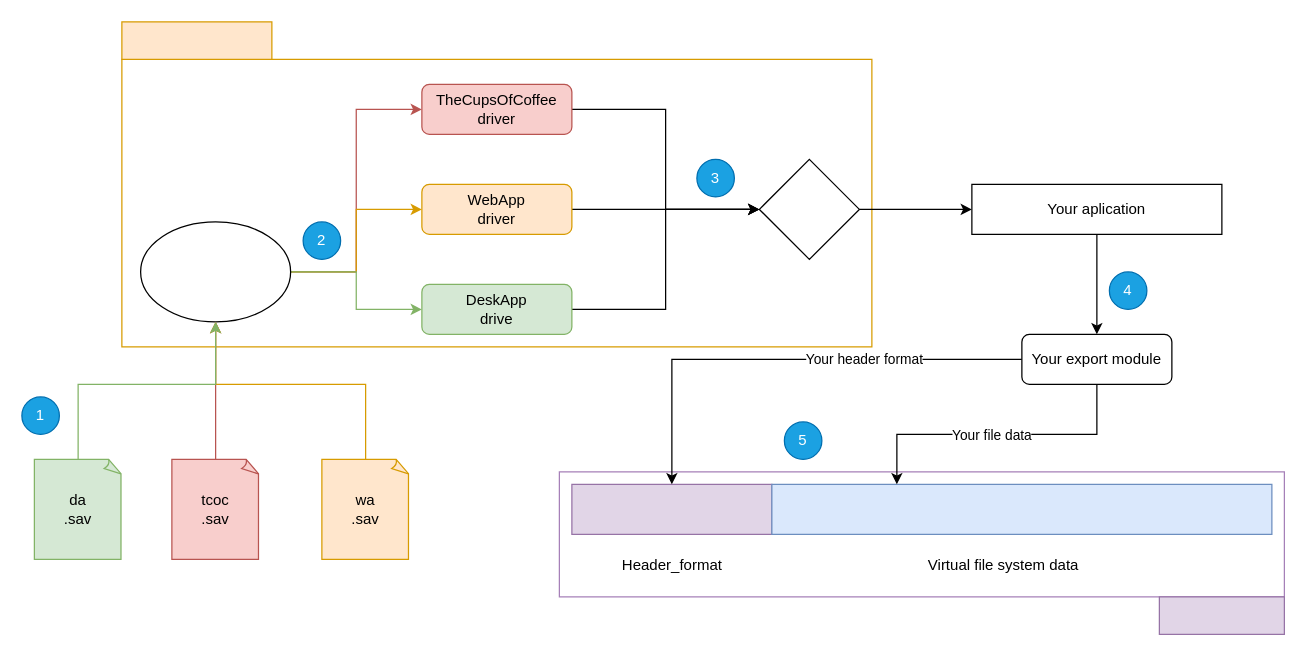
The diagram is 1306 pixels wide and 656 high, and some of its shapes have lost their labels. The box of each missing label's shape, as (x1, y1, x2, y2) in pixels:
16 bytes: (571, 483, 772, 534)
CoffeeFiles: (121, 21, 272, 59)
content data: (771, 483, 1272, 534)
File export (.sav): (1158, 596, 1284, 634)
Files Interface: (758, 158, 859, 259)
Reader: (139, 221, 291, 322)
